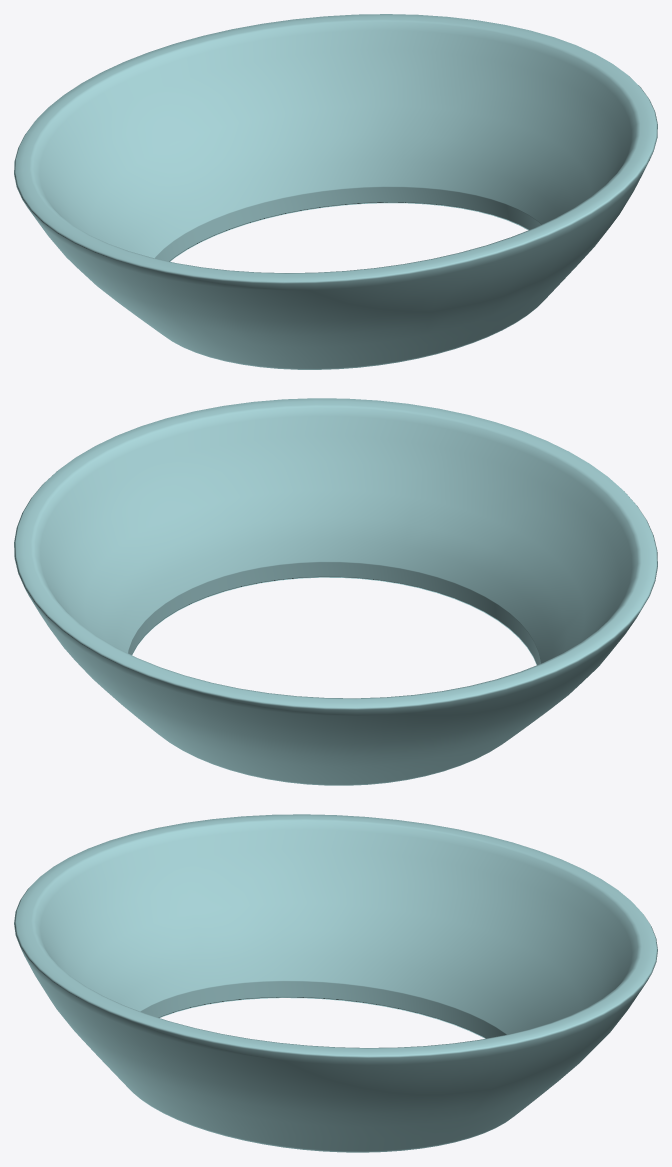
3 views of the same model, one above another, from view 1: azimuth 30°, elevation 25°; view 2: azimuth 150°, elevation 25°; view 3: azimuth 270°, elevation 25° (orthographic).
Parts seen in each view (by area): view 1: 左侧眼球前段; view 2: 左侧眼球前段; view 3: 左侧眼球前段.
Part boxes in pixels (x1,y1,x2,y2): 左侧眼球前段: (14,14,657,369); 左侧眼球前段: (14,398,657,785); 左侧眼球前段: (14,814,657,1152).
Size of the model in its own units: 0.0325 by 0.00968 by 0.0325.
